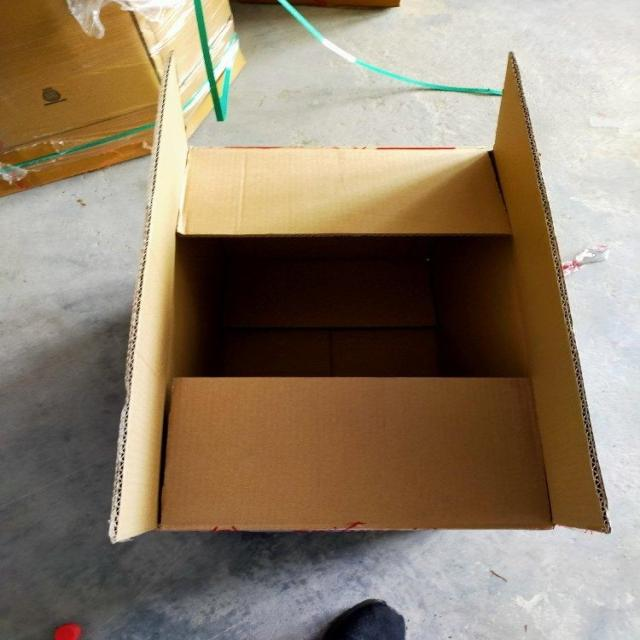cardboard: (106, 50, 609, 542)
